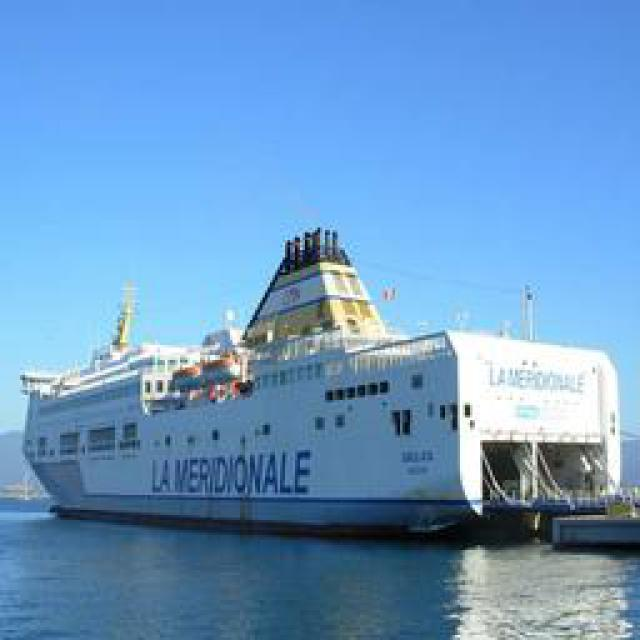Ship: (28, 221, 626, 544)
